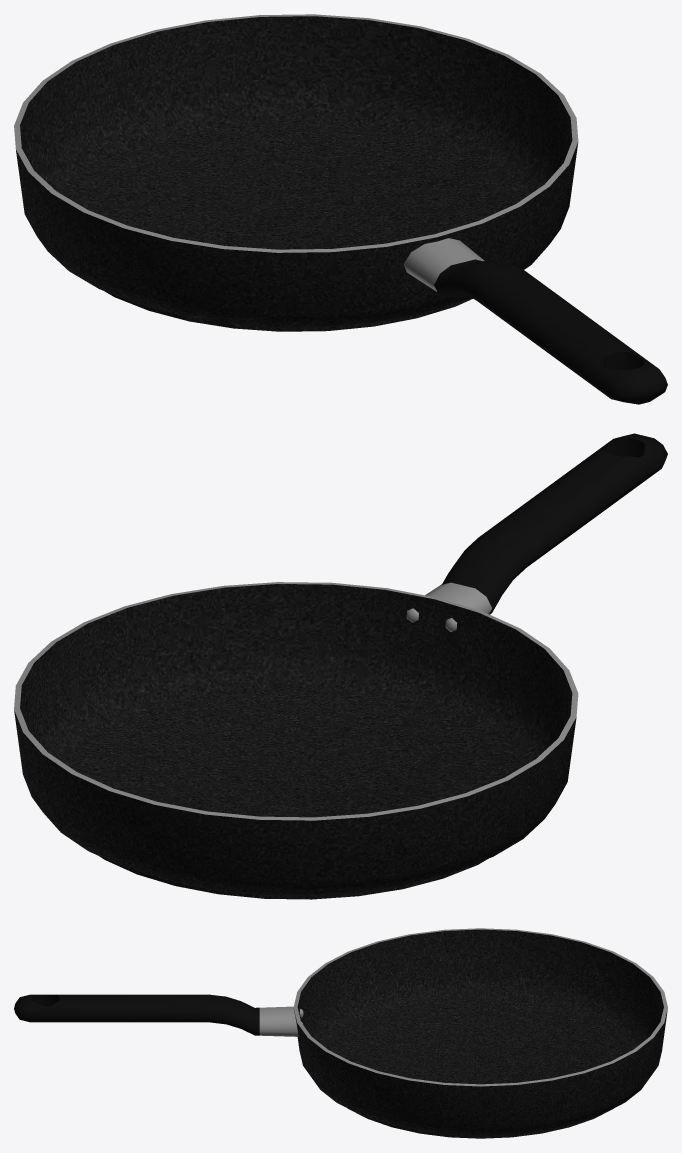
File: frying-pan.glb
3 views of the same model, one above another, from view 1: azimuth 30°, elevation 25°; view 2: azimuth 150°, elevation 25°; view 3: azimuth 270°, elevation 25° (orthographic). The views are drawn at different scales.
Parts seen in each view (by area): view 1: Fry_pan_FryPan_0; view 2: Fry_pan_FryPan_0; view 3: Fry_pan_FryPan_0.
Boxes of the visible parts, <box> form: Fry_pan_FryPan_0: <box>14,14,667,404</box>; Fry_pan_FryPan_0: <box>14,433,667,899</box>; Fry_pan_FryPan_0: <box>14,928,667,1138</box>.
Size of the model in its own units: 28 by 5.98 by 48.91.
1 material, 1 textured.
